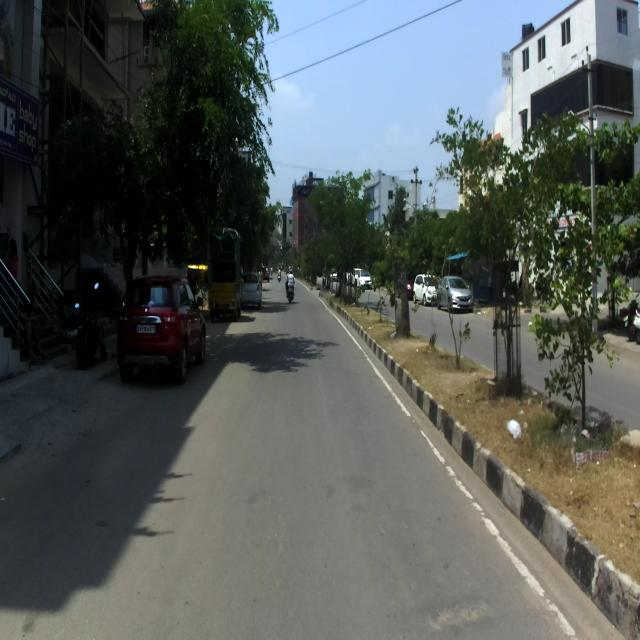car ahead at: (124, 267, 209, 386)
